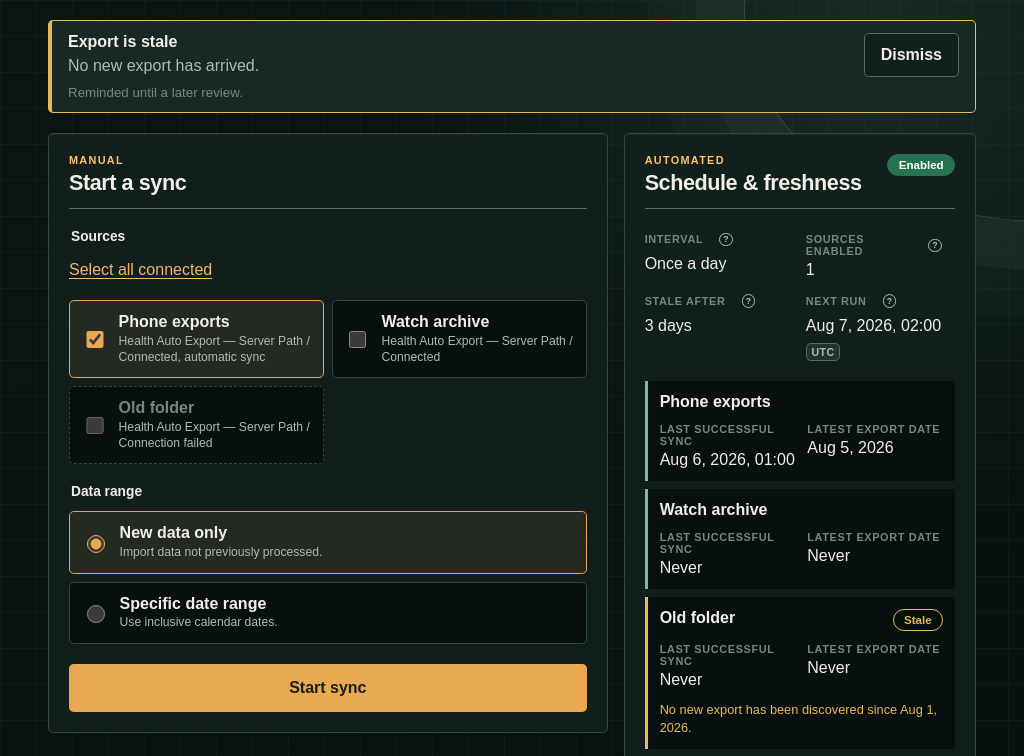
DataSync › completes the DataSync range only on start blur: 2023-04-01 / 2022-03-01 -> 2023-04-01
Expected: the checkbox labelled "Phone exports" is shown, left=86, top=331, right=104, bottom=348
Click the radio button labelled "Specific date range Use inclusive calendar dates." at point(96, 614), box left=87, top=605, right=105, bottom=623
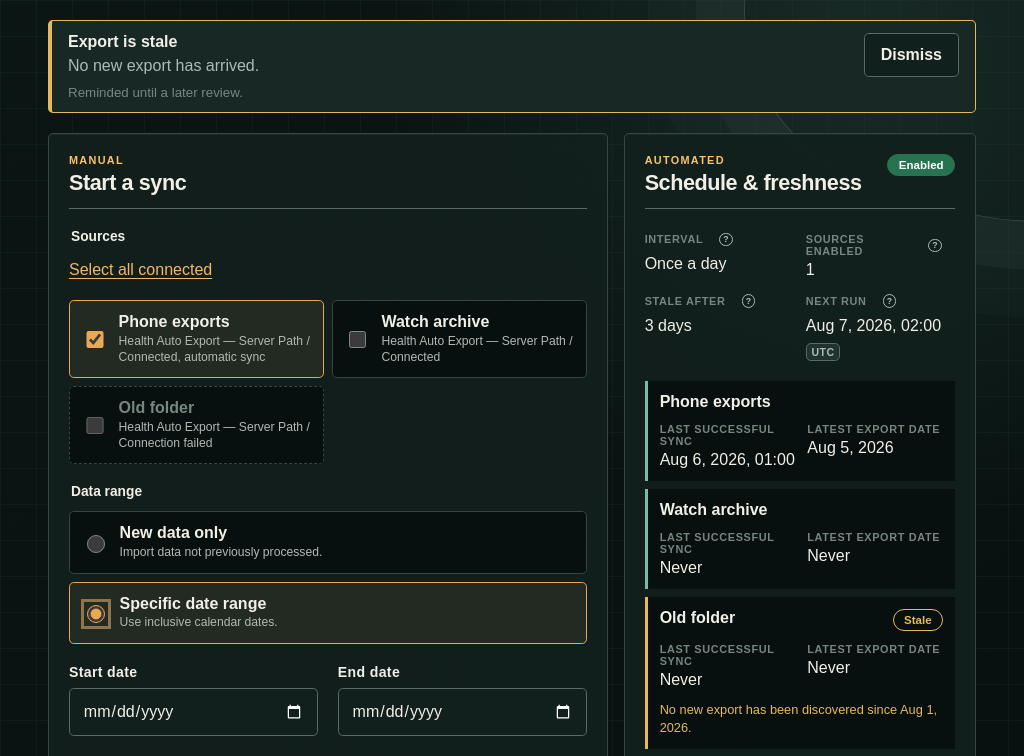
Type "2022-02-01" into the date field labelled "Start date" at point(193, 712), box left=69, top=688, right=318, bottom=736
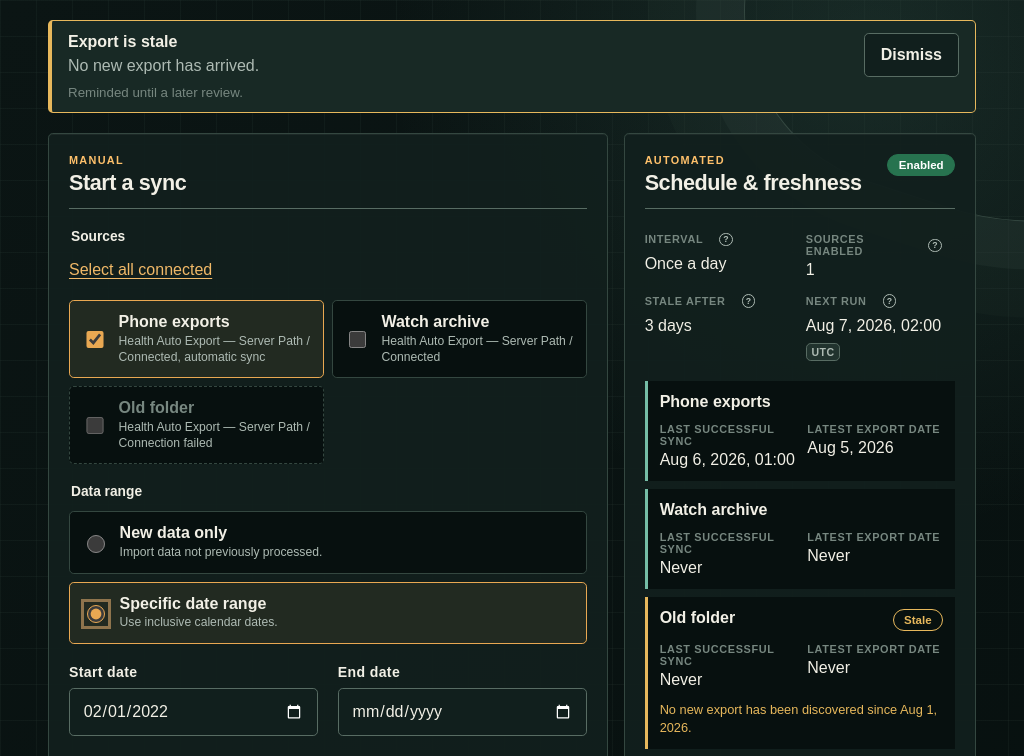
Type "2022-03-01" into the date field labelled "End date" at point(462, 712), box left=338, top=688, right=587, bottom=736
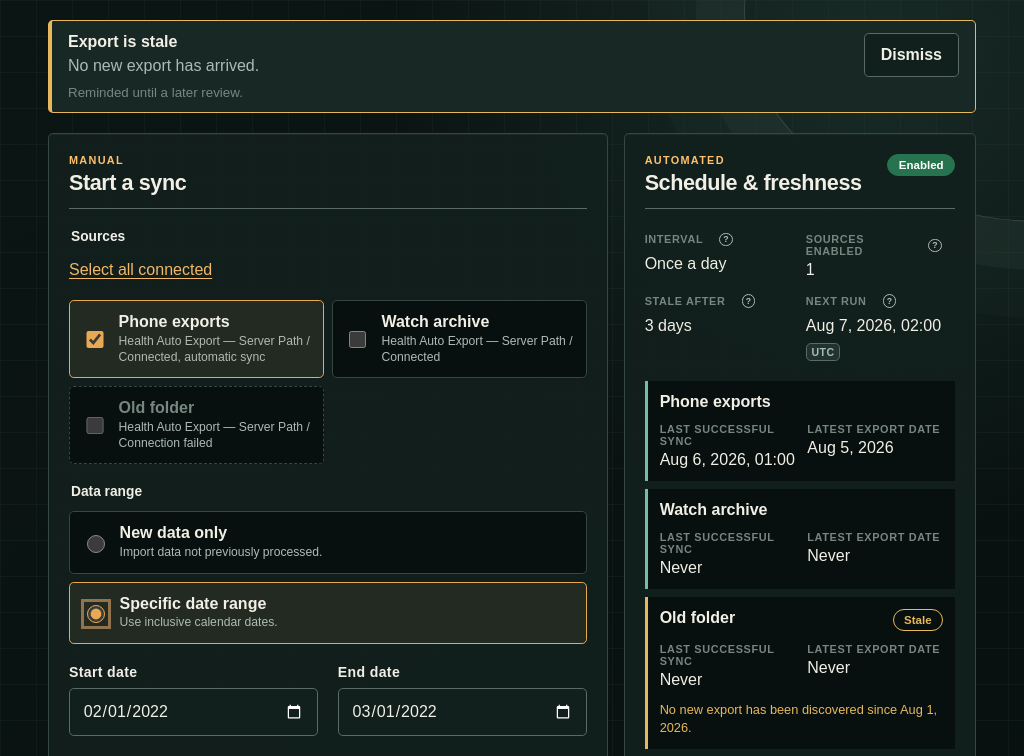
Type "2023-04-01" into the date field labelled "Start date" at point(193, 712), box left=69, top=688, right=318, bottom=736
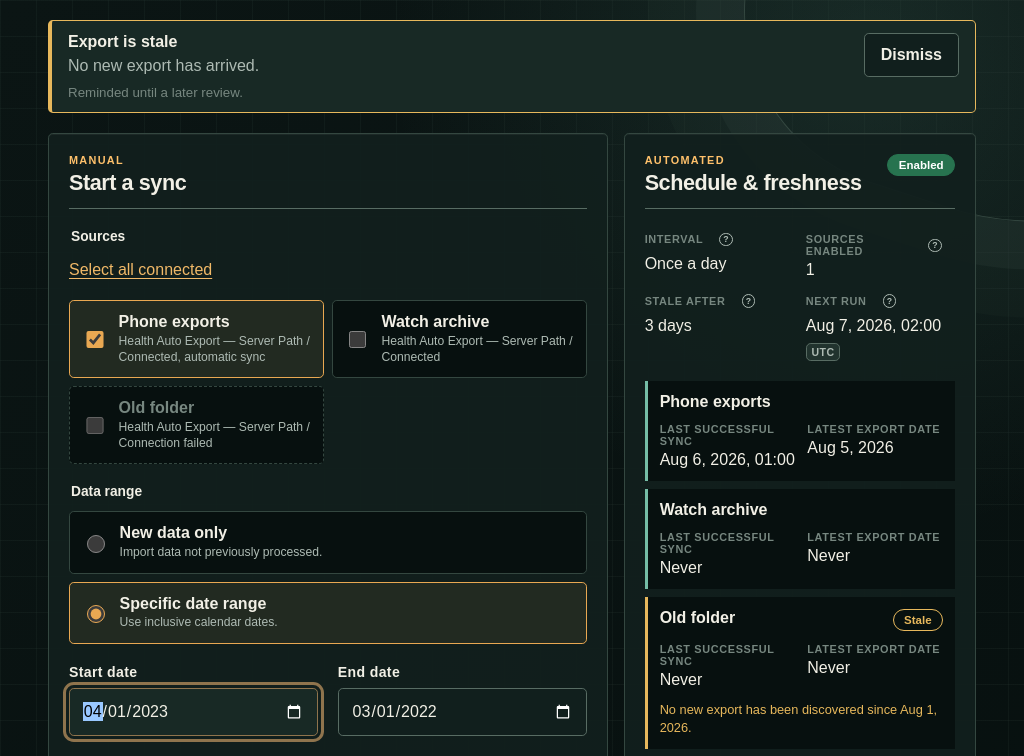
Press Tab
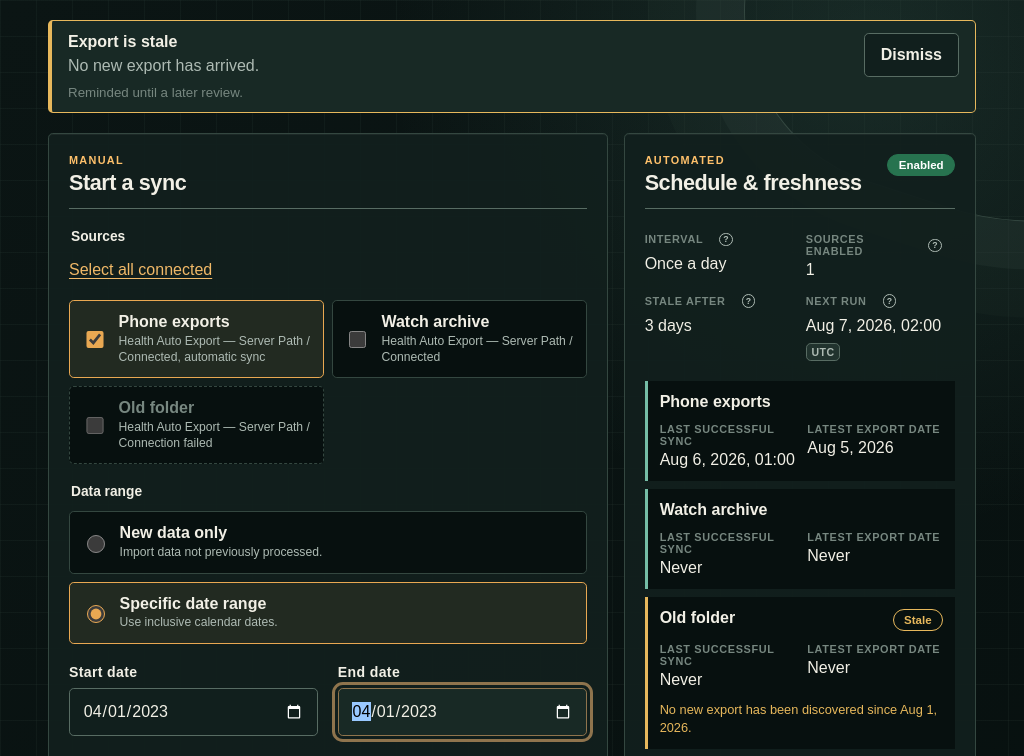
Expected: the date field labelled "End date" holds "2023-04-01", left=338, top=688, right=587, bottom=736
